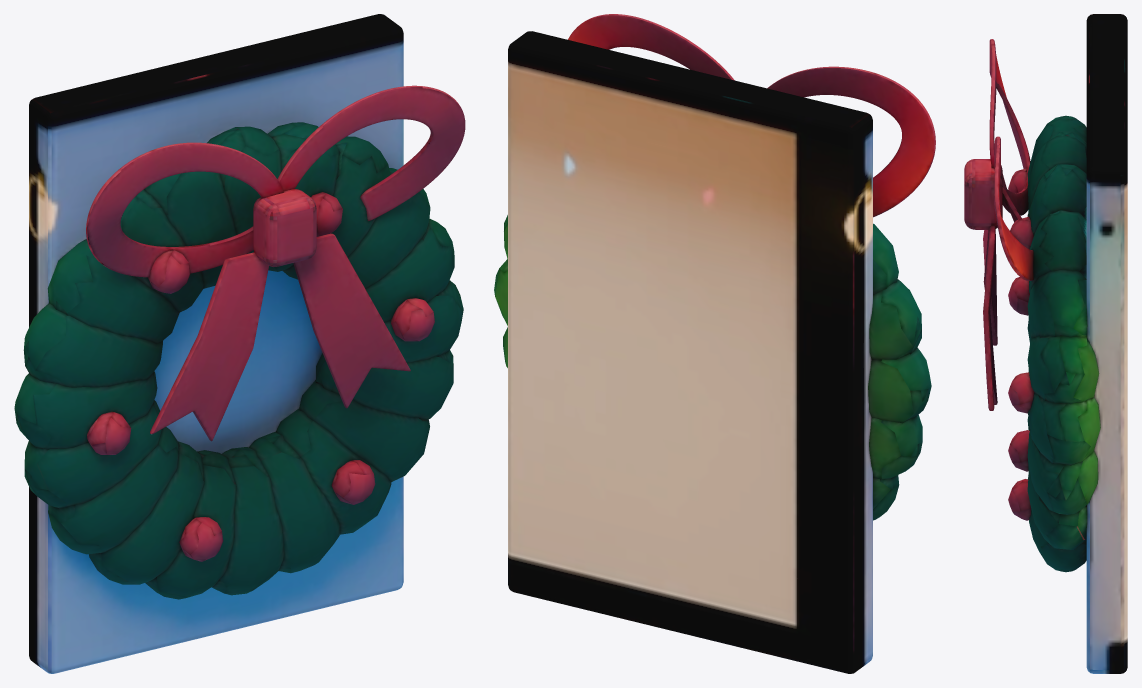
Rendered from winter-wreath.glb.
3 renders of one model, left to right at view 1: azimuth 30°, elevation 25°; view 2: azimuth 150°, elevation 25°; view 3: azimuth 270°, elevation 25°, orthographic. The views are drawn at different scales.
Visible parts, largest first — view 1: Baked_wreath; view 2: Baked_wreath; view 3: Baked_wreath.
Boxes of the visible parts, <box> form: Baked_wreath: <box>14,14,465,673</box>; Baked_wreath: <box>494,14,935,673</box>; Baked_wreath: <box>964,14,1127,673</box>.
Size of the model in its own units: 0.78 by 0.95 by 0.2775.
Materials: 1 (1 with a texture image).
